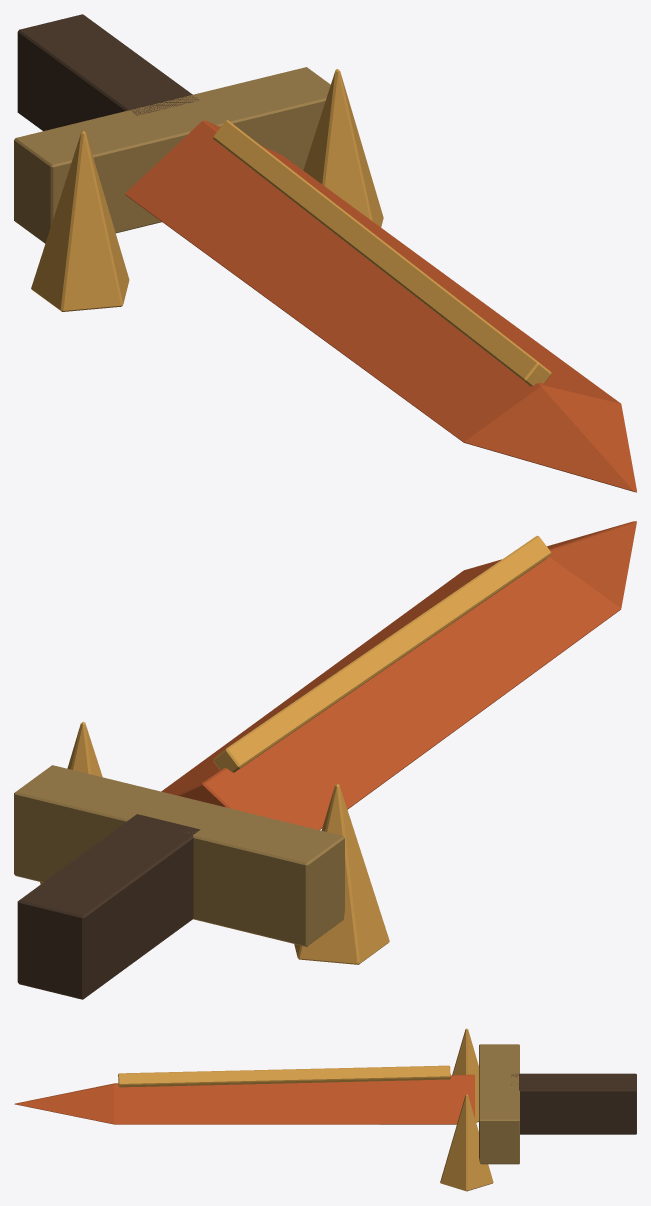
Rendered from warrior_fire.glb.
3 views of the same model, one above another, from view 1: azimuth 30°, elevation 25°; view 2: azimuth 150°, elevation 25°; view 3: azimuth 270°, elevation 25° (orthographic). The views are drawn at different scales.
Visible parts, largest first — view 1: weapon.009; view 2: weapon.009; view 3: weapon.009.
Part boxes in pixels (x1,y1,x2,y2): weapon.009: (14,14,636,492); weapon.009: (14,521,636,999); weapon.009: (14,1028,636,1191).
Bounding box in the file's own units: 0.504 × 0.23 × 1.52.
